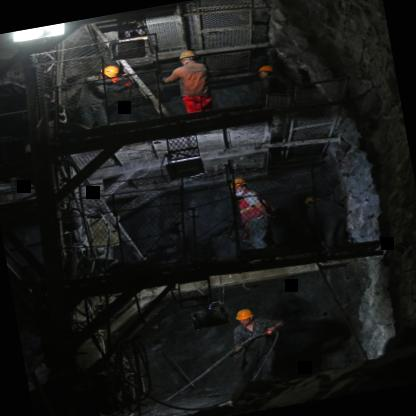helmet: (90, 61, 124, 86), (223, 172, 252, 200), (228, 304, 259, 330), (172, 47, 200, 68), (254, 59, 278, 80)
